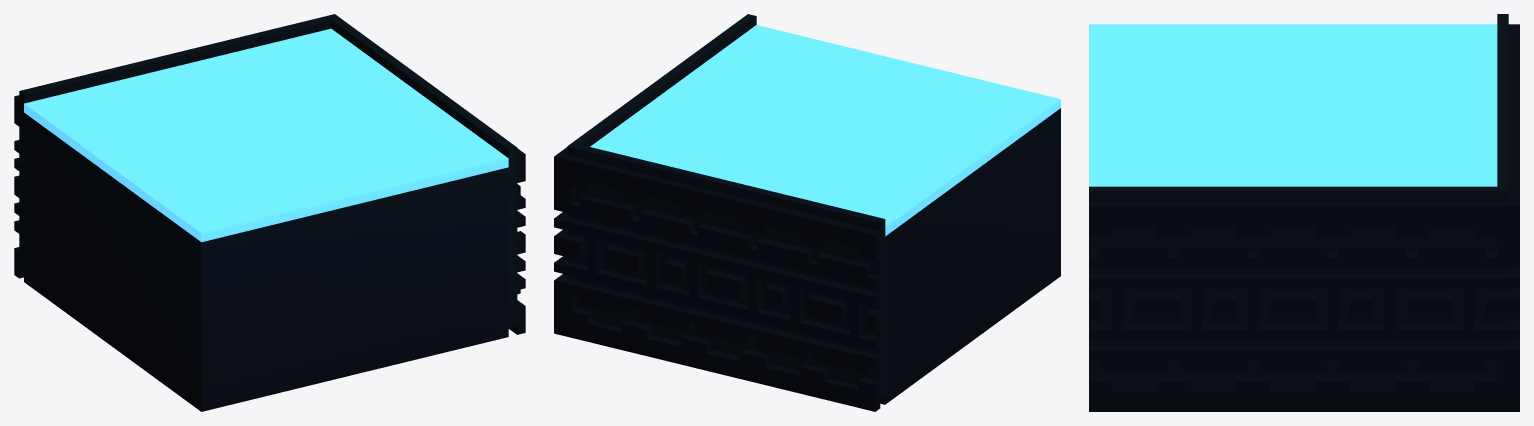
The model's file is Block_Base_Edge.glb.
3 views of the same model, side by side, from view 1: azimuth 30°, elevation 25°; view 2: azimuth 150°, elevation 25°; view 3: azimuth 270°, elevation 25° (orthographic). The views are drawn at different scales.
Parts seen in each view (by area): view 1: Block_Base_Edge; view 2: Block_Base_Edge; view 3: Block_Base_Edge.
Boxes of the visible parts, bbox=[...] form: Block_Base_Edge: bbox=[14, 14, 525, 411]; Block_Base_Edge: bbox=[554, 14, 1060, 411]; Block_Base_Edge: bbox=[1089, 14, 1519, 411].
Bounding box in the file's own units: 0.95 × 0.525 × 0.95.
